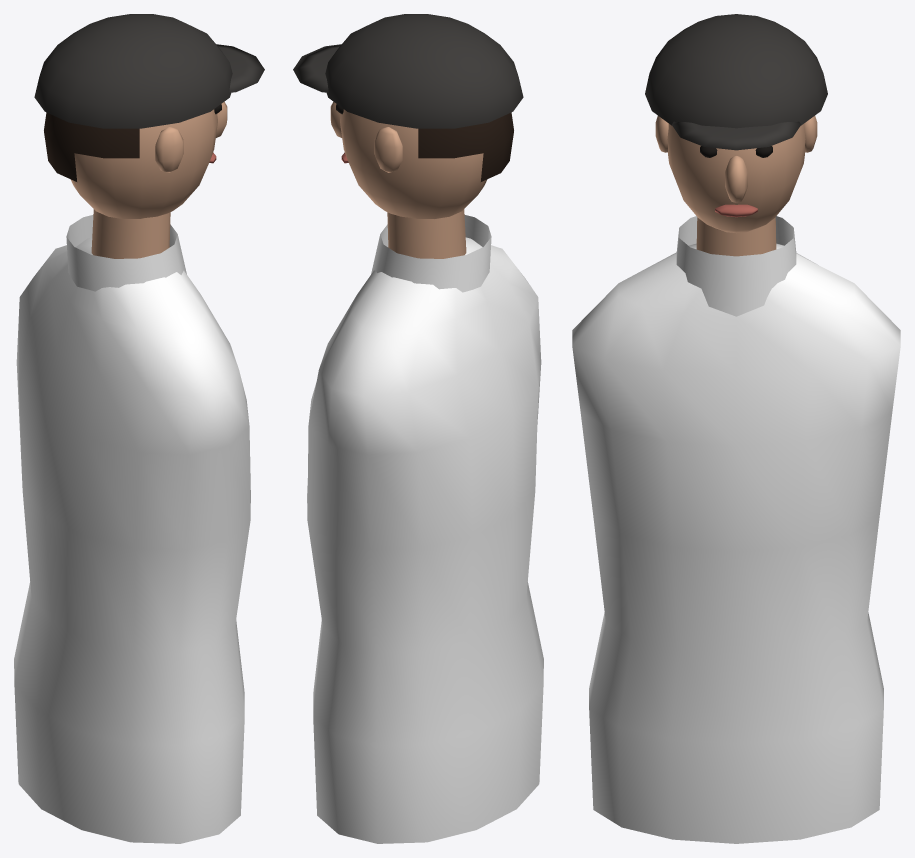
The model's file is body_man_cap.obj.
3 renders of one model, left to right at view 1: azimuth 30°, elevation 25°; view 2: azimuth 150°, elevation 25°; view 3: azimuth 270°, elevation 25°, orthographic.
Parts seen in each view (by area): view 1: body_man_cap_CoatPaint, body_man_cap_Cap, body_man_cap_Skin, body_man_cap_HairDark; view 2: body_man_cap_CoatPaint, body_man_cap_Cap, body_man_cap_Skin, body_man_cap_HairDark; view 3: body_man_cap_CoatPaint, body_man_cap_Cap, body_man_cap_Skin.
Boxes of the visible parts, x1,y1,x2,y2 form: body_man_cap_CoatPaint: (14,215,250,843); body_man_cap_Cap: (34,14,264,128); body_man_cap_Skin: (70,101,227,258); body_man_cap_HairDark: (44,112,139,181); body_man_cap_CoatPaint: (307,215,543,843); body_man_cap_Cap: (293,14,523,128); body_man_cap_Skin: (330,101,487,258); body_man_cap_HairDark: (418,112,513,181); body_man_cap_CoatPaint: (572,216,900,843); body_man_cap_Cap: (645,14,827,150); body_man_cap_Skin: (655,116,817,256).
Bounding box in the file's own units: 0.297 × 1.03 × 0.3802.
6 materials, 6 textured.
